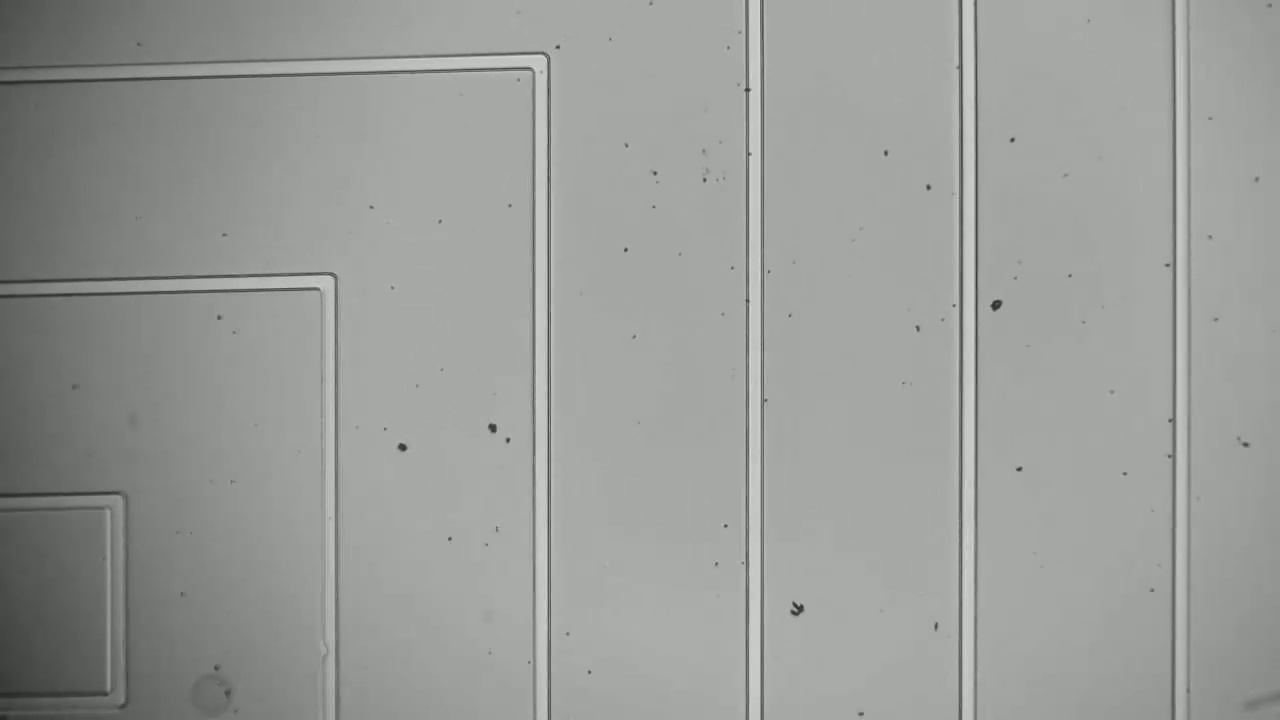edge_bite: (312, 630, 347, 670)
